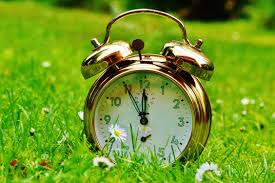alarm_clock: (81, 9, 209, 166), (81, 13, 209, 166)
